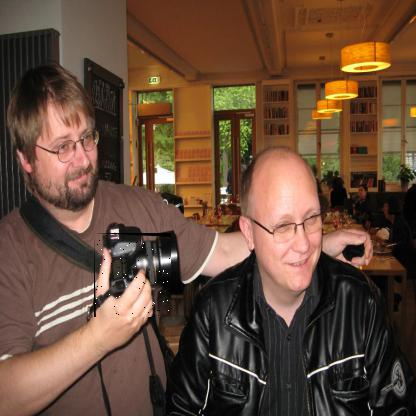Camera: (95, 234, 173, 319)
